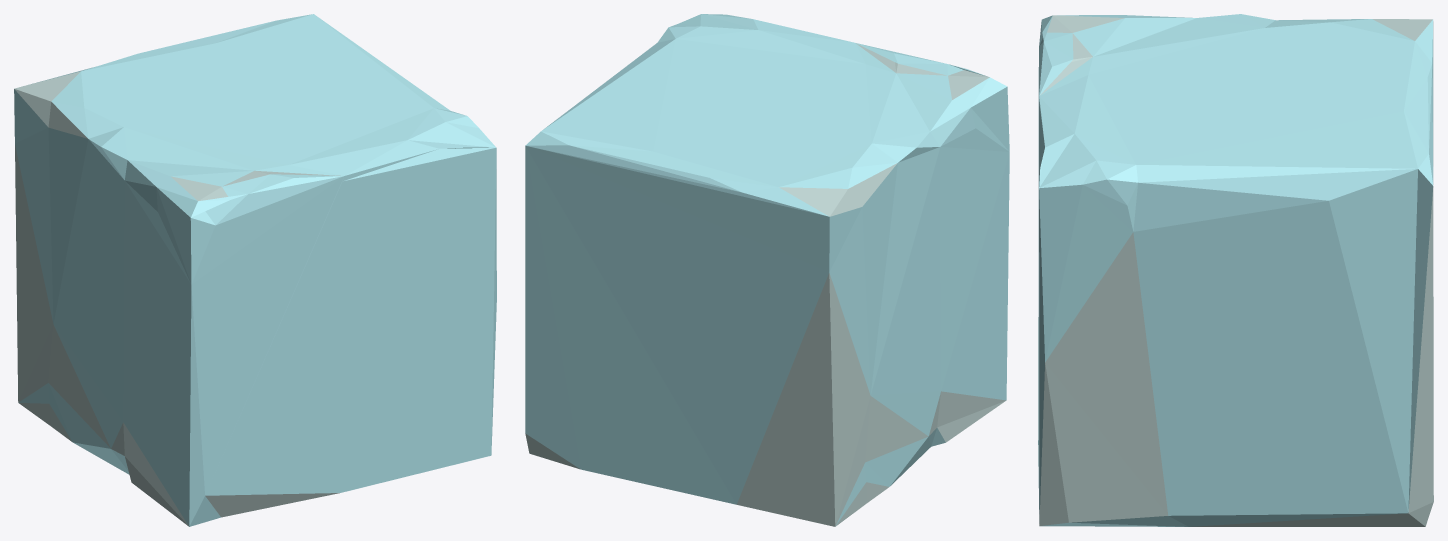
The model's file is ice.gltf.
3 renders of one model, left to right at view 1: azimuth 30°, elevation 25°; view 2: azimuth 150°, elevation 25°; view 3: azimuth 270°, elevation 25°, orthographic. The views are drawn at different scales.
Visible parts, largest first — view 1: basic_cube.010; view 2: basic_cube.010; view 3: basic_cube.010.
Part boxes in pixels (bbox=[...]): basic_cube.010: bbox=[14, 14, 496, 526]; basic_cube.010: bbox=[525, 14, 1009, 526]; basic_cube.010: bbox=[1038, 14, 1433, 526].
Size of the model in its own units: 2 by 1.99 by 2.
Materials: 1 (1 with a texture image).
